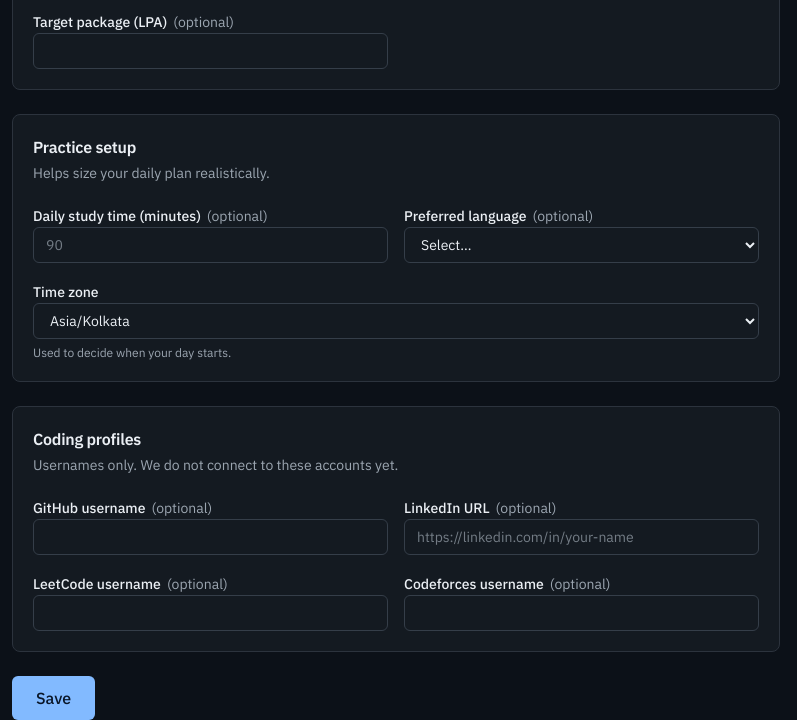
ProfileForm › requires a name and does not submit
(page scrolled)
Click the button "Save".
click(54, 698)  # box [12,676,95,719]
(page scrolled)
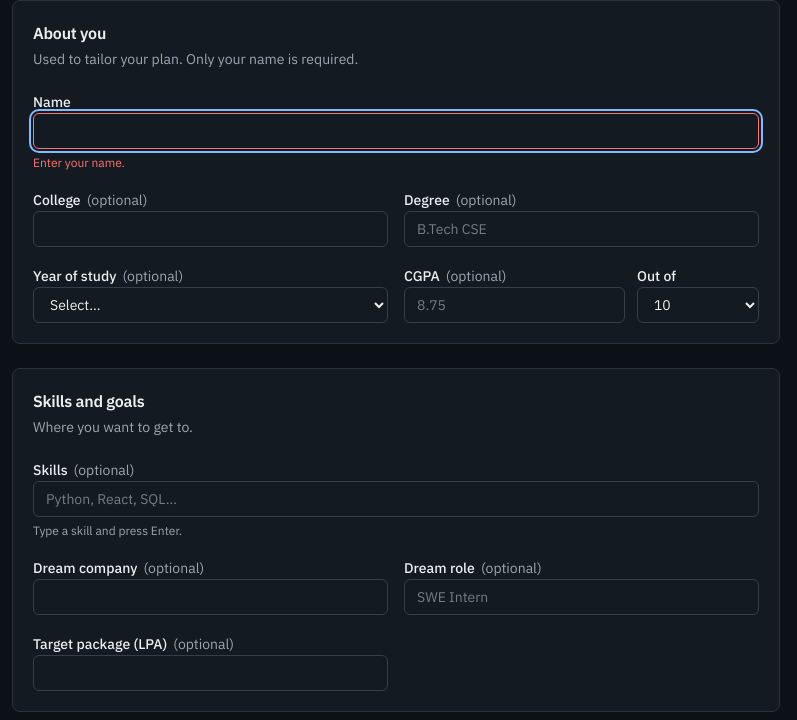
Result: the text "Enter your name." is shown at [33,155,125,170]
